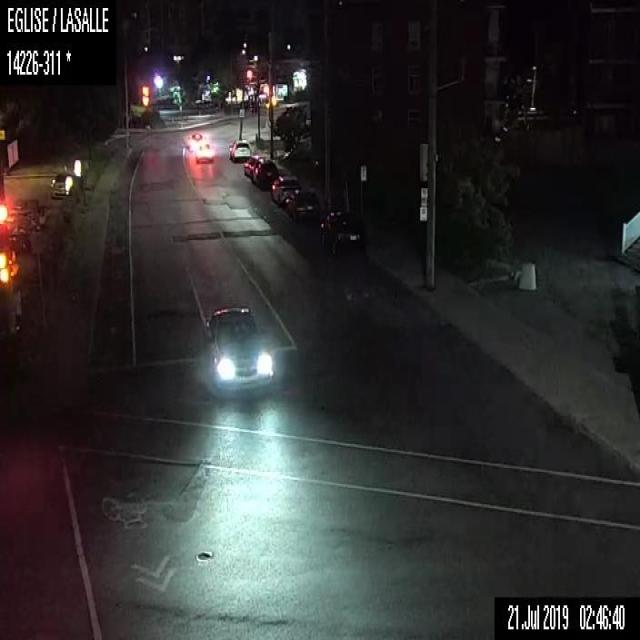vehicle: (202, 301, 274, 392), (318, 208, 367, 256), (282, 184, 320, 220), (270, 174, 301, 204), (252, 157, 280, 187), (51, 170, 76, 199), (228, 138, 252, 160), (244, 154, 260, 178), (196, 140, 213, 162), (186, 130, 204, 150)
